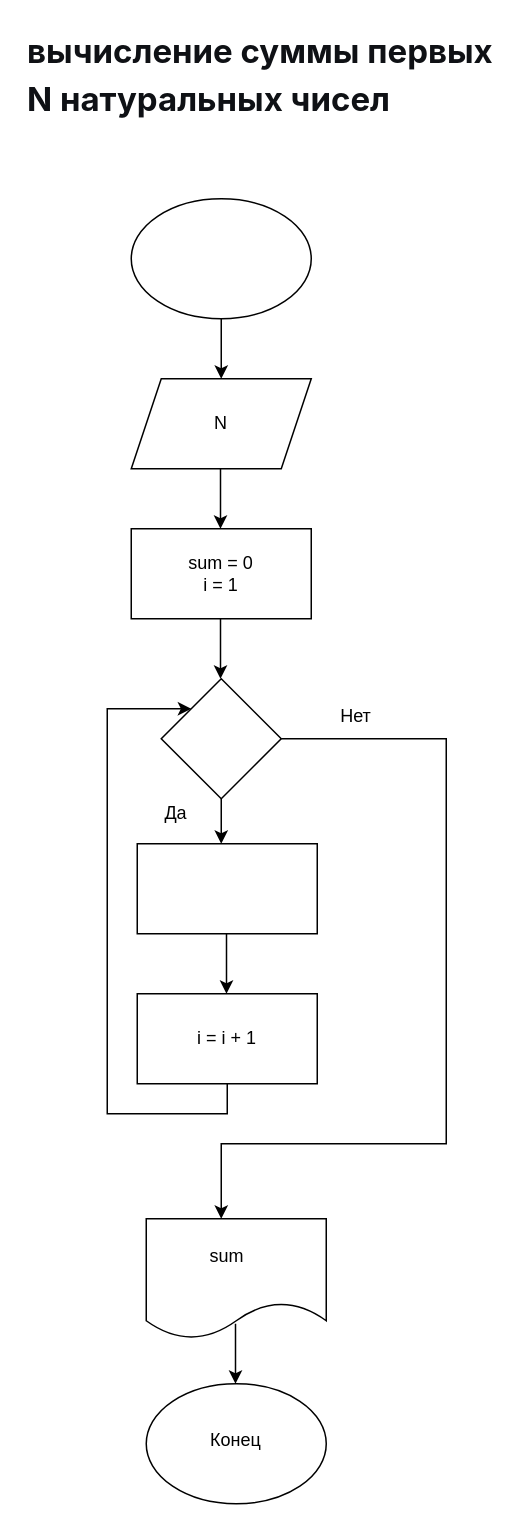
This 531x1530 diagram has some shape labels left out. The centre of each missing label's shape, as x and y in pixels:
"i <= N" belongs at [220,738].
"sum = sum + i" belongs at [226,888].
"Начало" belongs at [220,258].
